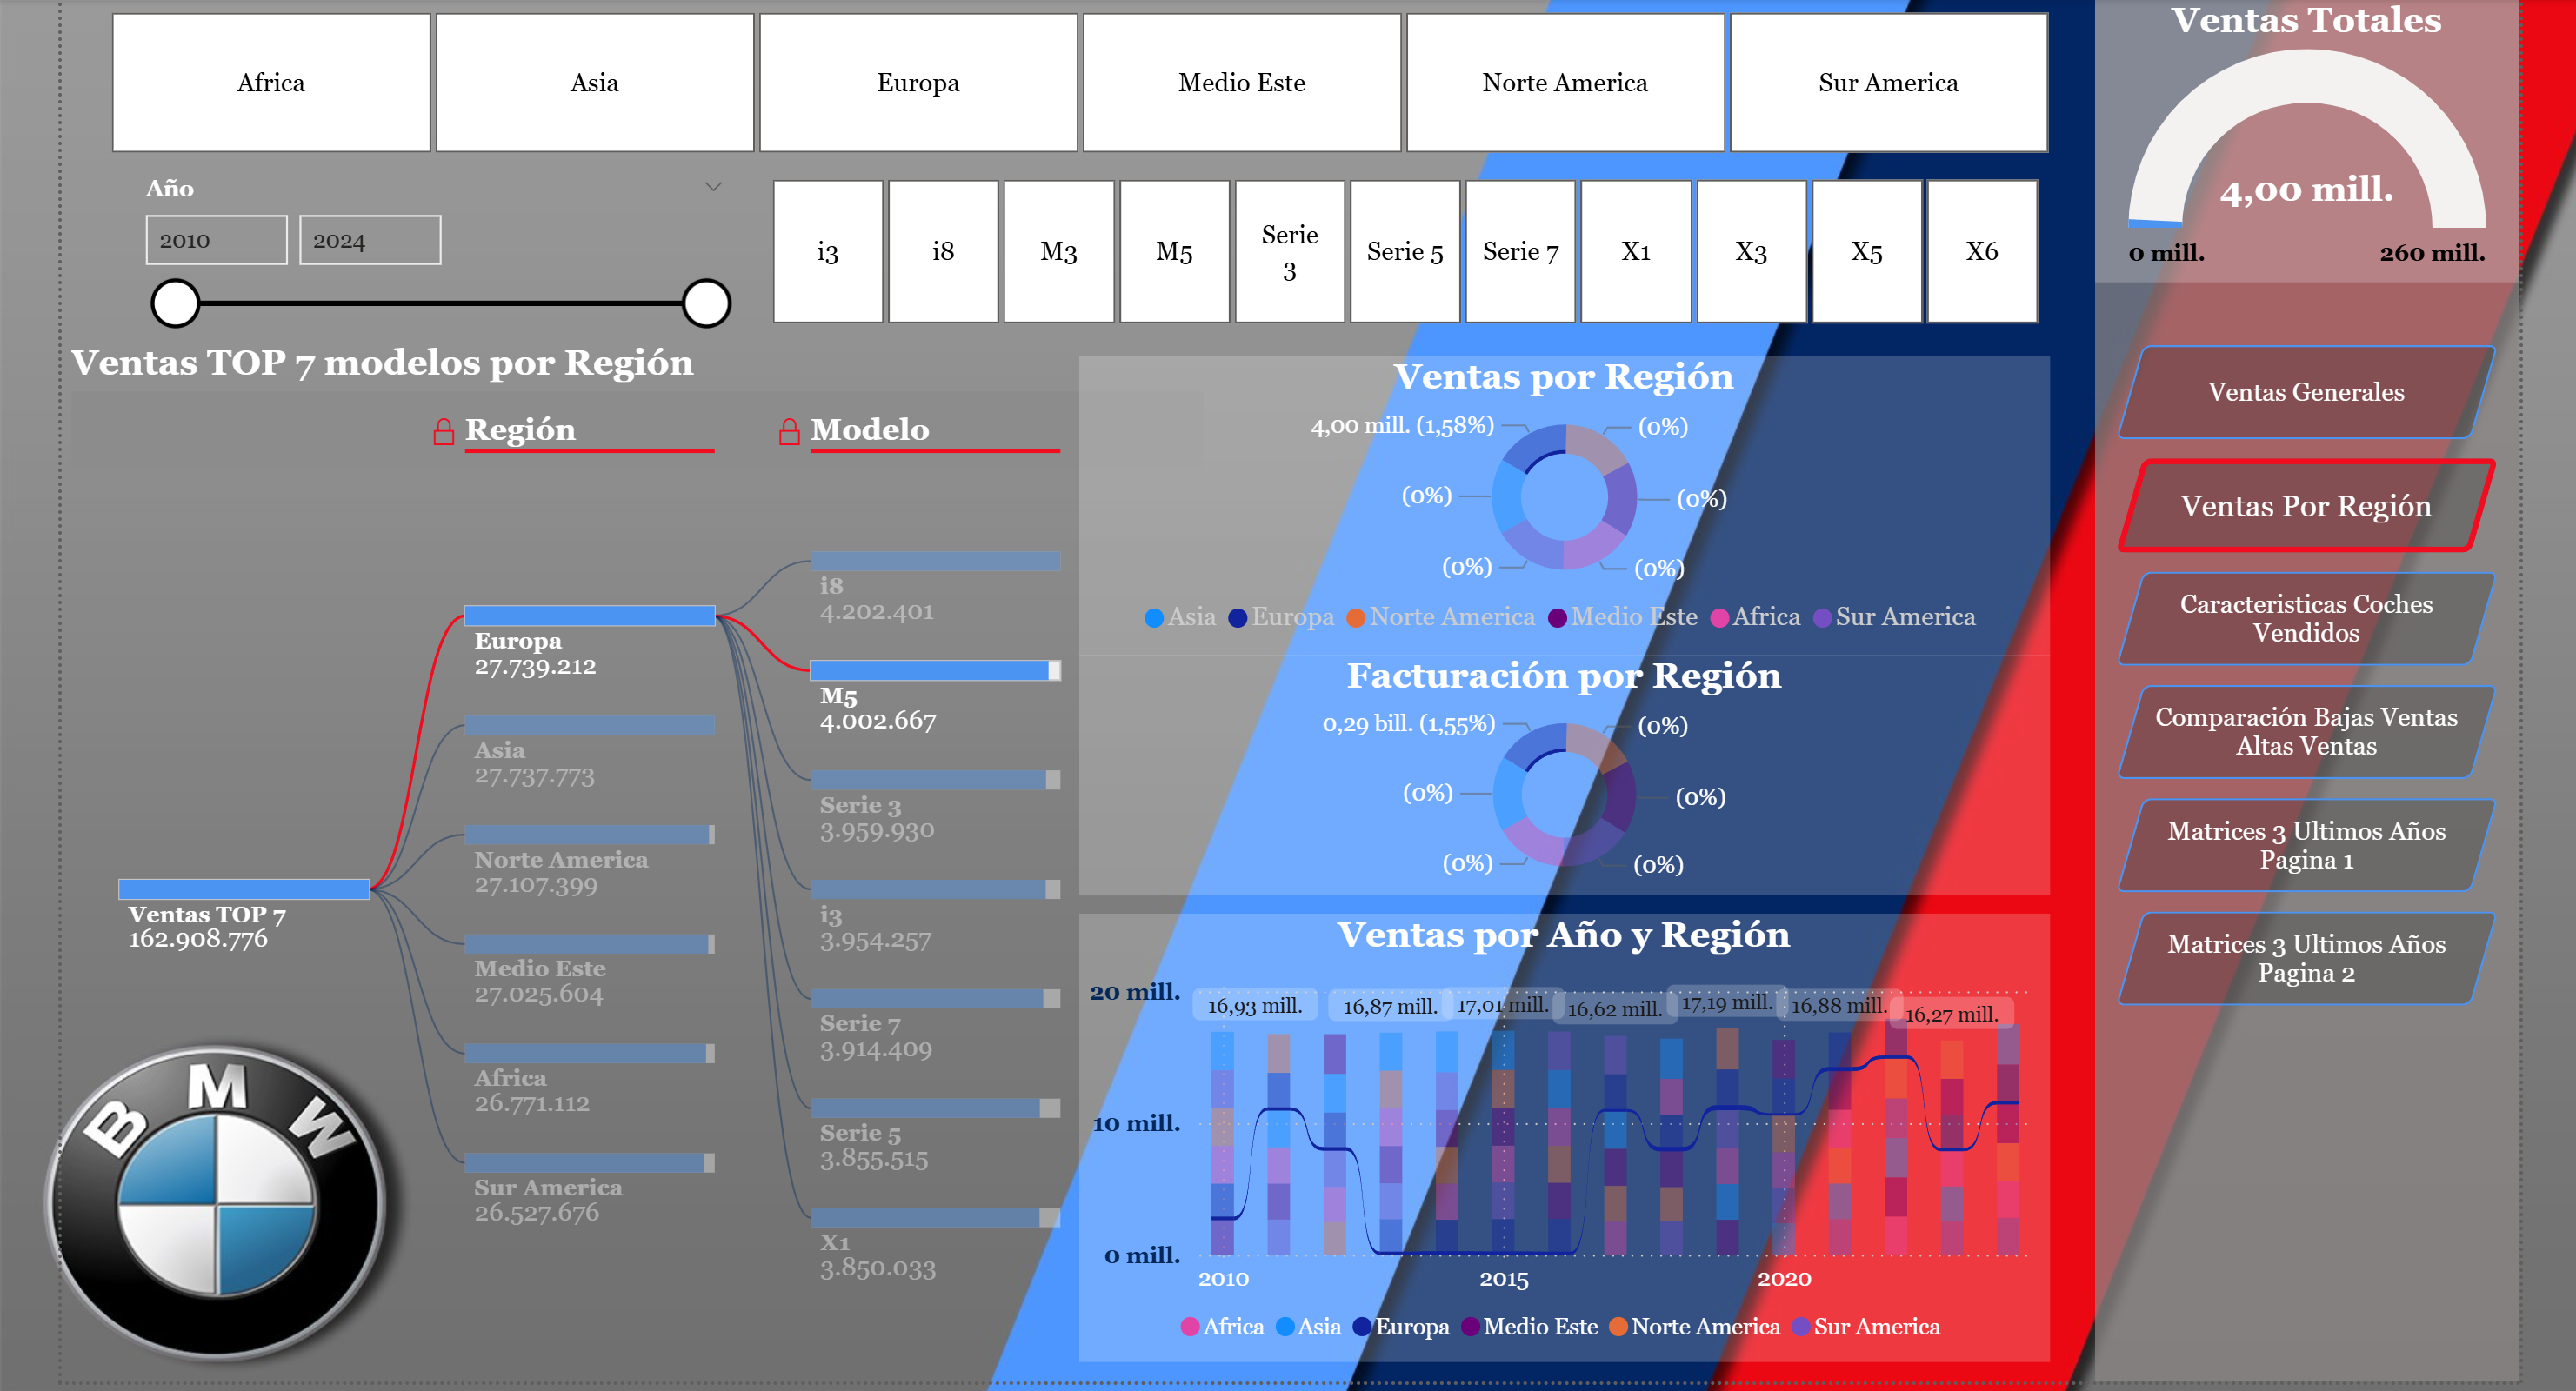

This screenshot's page, from the dashboard's own definition file:
{"tool":"powerbi","page":{"name":"Ventas Por Región","canvas":[1280,720],"ordinal":1},"visuals":[{"type":"decompositionTreeVisual","title":"Ventas TOP 7 modelos por Región","fields":{"ExplainBy":["BMW sales data (2010-2024) (1).Region","BMW sales data (2010-2024) (1).Modelo"],"Analyze":["Sum(BMW sales data (2010-2024) (1).Volumen_Ventas)"]},"box":[0,178.4,599.5,541.6],"z":0},{"type":"donutChart","title":"Ventas por Región","fields":{"Category":["BMW sales data (2010-2024) (1).Region"],"Y":["Sum(BMW sales data (2010-2024) (1).Volumen_Ventas)"]},"box":[529.8,185.7,505.4,155.8],"z":1000},{"type":"ribbonChart","title":"Ventas por Año y Región","fields":{"Category":["BMW sales data (2010-2024) (1).Año"],"Y":["Sum(BMW sales data (2010-2024) (1).Volumen_Ventas)"],"Series":["BMW sales data (2010-2024) (1).Region"]},"box":[529.8,476.4,505.4,233.7],"z":2000},{"type":"textbox","box":[1058.7,0,221,720],"z":3000},{"type":"slicer","fields":{"Values":["BMW sales data (2010-2024) (1).Region"]},"box":[0,0,1058.7,86.9],"z":4000},{"type":"slicer","fields":{"Values":["BMW sales data (2010-2024) (1).Año"]},"box":[30.8,86.9,326,88.8],"z":5000},{"type":"slicer","fields":{"Values":["BMW sales data (2010-2024) (1).Modelo"]},"box":[344.2,86.9,709.1,88.8],"z":6000},{"type":"donutChart","title":"Facturación por Región","fields":{"Category":["BMW sales data (2010-2024) (1).Region"],"Y":["BMW sales data (2010-2024) (1).$ Ventas Totales"]},"box":[529.8,341.4,505.4,125],"z":7000},{"type":"gauge","title":"Ventas Totales","fields":{"Y":["Sum(BMW sales data (2010-2024) (1).Volumen_Ventas)"]},"box":[1058.7,0,221,147.6],"z":8000},{"type":"pageNavigator","box":[1069.6,180.2,199.2,347.8],"z":9000}]}

Visuals, with their boxes on the page's 1280x720 design canvas (x1, y1, x2, y2). These are canvas units, not pixel positions in the 2576x1391 screenshot, which may show the page scaled, cropped or inside an application window:
"Ventas TOP 7 modelos por Región" decompositionTreeVisual: <bbox>0, 178, 600, 720</bbox>
"Ventas por Región" donutChart: <bbox>530, 186, 1035, 342</bbox>
"Ventas por Año y Región" ribbonChart: <bbox>530, 476, 1035, 710</bbox>
textbox: <bbox>1059, 0, 1280, 720</bbox>
slicer - BMW sales data (2010-2024) (1).Region: <bbox>0, 0, 1059, 87</bbox>
slicer - BMW sales data (2010-2024) (1).Año: <bbox>31, 87, 357, 176</bbox>
slicer - BMW sales data (2010-2024) (1).Modelo: <bbox>344, 87, 1053, 176</bbox>
"Facturación por Región" donutChart: <bbox>530, 341, 1035, 466</bbox>
"Ventas Totales" gauge: <bbox>1059, 0, 1280, 148</bbox>
pageNavigator: <bbox>1070, 180, 1269, 528</bbox>
